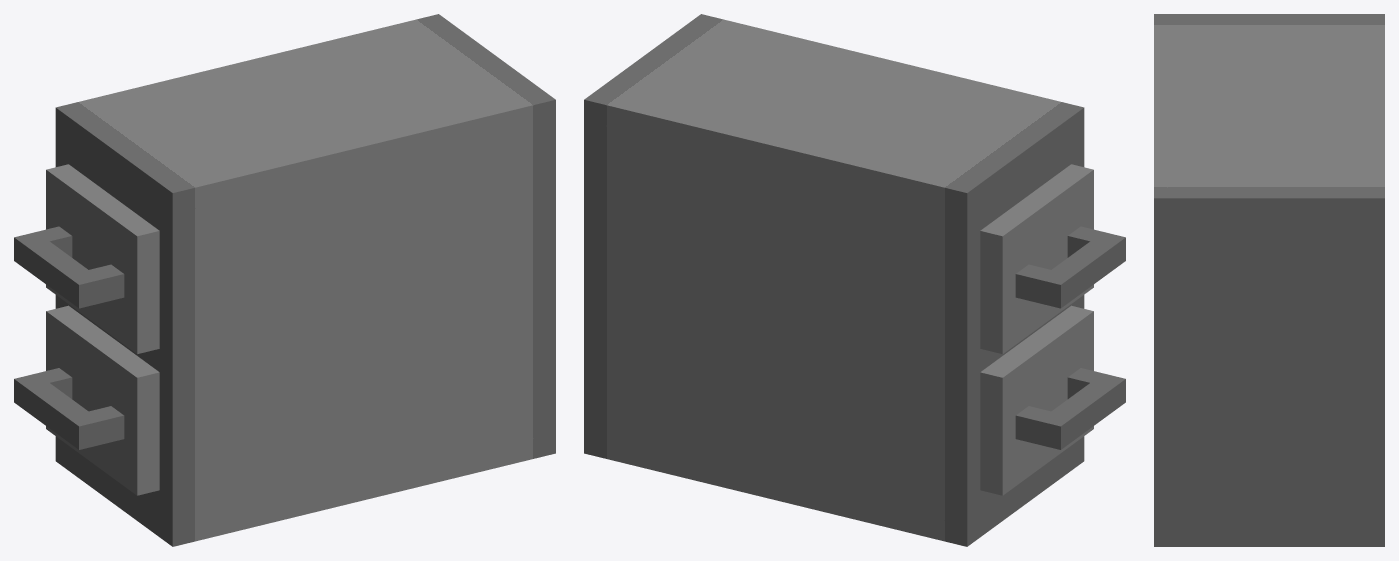
File: file_cabinet.fbx
3 views of the same model, side by side, from view 1: azimuth 30°, elevation 25°; view 2: azimuth 150°, elevation 25°; view 3: azimuth 270°, elevation 25° (orthographic).
Visible parts, largest first — view 1: file_cabinet; view 2: file_cabinet; view 3: file_cabinet.
Part boxes in pixels (x1,y1,x2,y2): file_cabinet: (14,14,555,546); file_cabinet: (584,14,1125,546); file_cabinet: (1154,14,1384,546).
Bounding box in the file's own units: 20 × 15 × 9.
